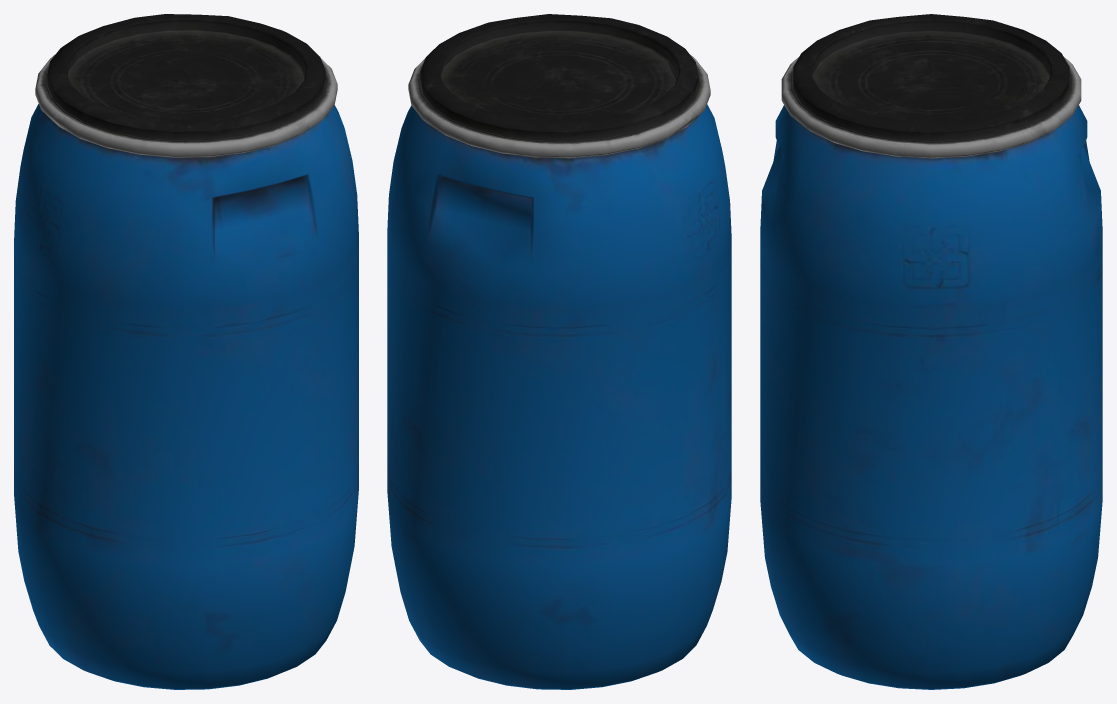
Rendered from Barrel_02.glb.
3 views of the same model, side by side, from view 1: azimuth 30°, elevation 25°; view 2: azimuth 150°, elevation 25°; view 3: azimuth 270°, elevation 25° (orthographic).
Parts seen in each view (by area): view 1: Barrel_02; view 2: Barrel_02; view 3: Barrel_02.
Part boxes in pixels (x1,y1,x2,y2): Barrel_02: [14, 14, 358, 689]; Barrel_02: [387, 14, 731, 689]; Barrel_02: [760, 14, 1102, 689].
Bounding box in the file's own units: 0.4882 × 0.88 × 0.4846.
1 material, 1 textured.
